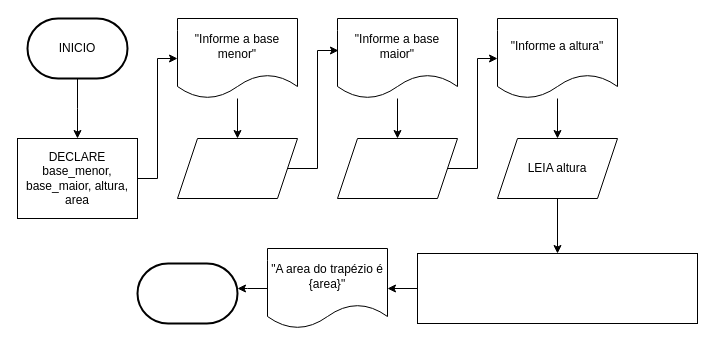
The diagram is 715 pixels wide and 346 high, and some of its shapes have lost their labels. The shapes that lost their labels are listed below. From the top down, each one's centre as x and y in pixels, then its label:
At point 237,168: "LEIA base_menor".
At point 397,168: "LEIA base_maior".
At point 187,293: "FIM".
At point 557,288: "area = (base_menor + base_maior) * altura / 2".
